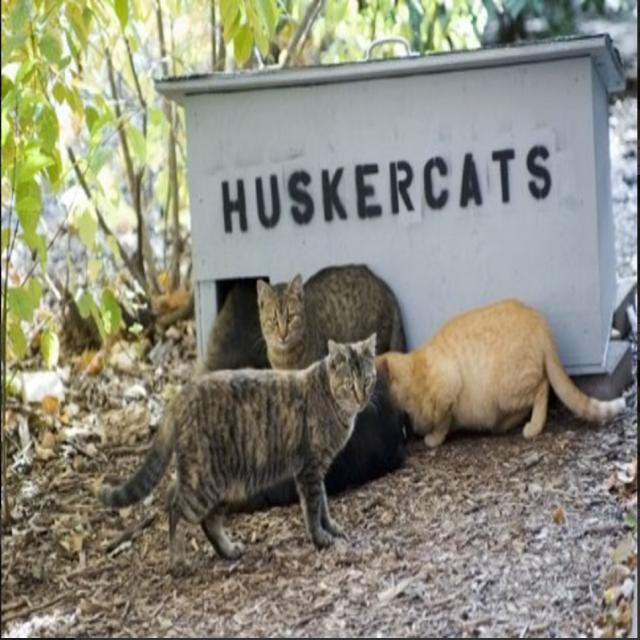cat: (100, 336, 376, 574), (378, 300, 625, 446), (258, 264, 406, 369), (205, 279, 270, 370)
